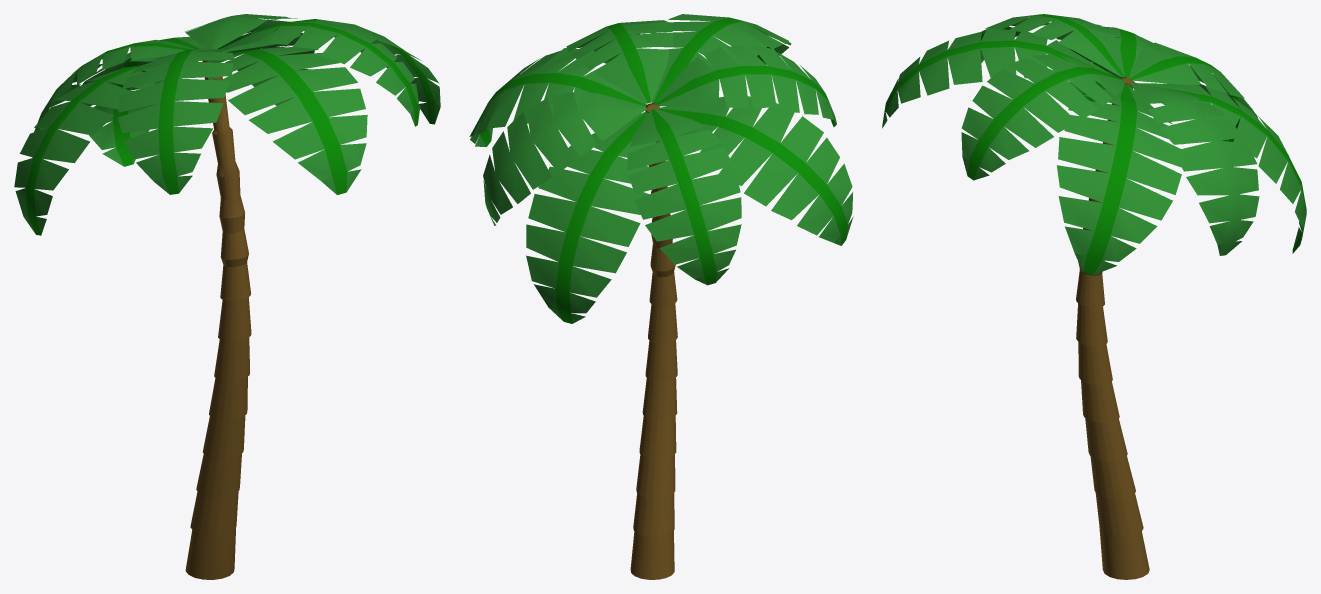
Rendered from palma.fbx.
3 renders of one model, left to right at view 1: azimuth 30°, elevation 25°; view 2: azimuth 150°, elevation 25°; view 3: azimuth 270°, elevation 25°, orthographic. The views are drawn at different scales.
Visible parts, largest first — view 1: Sfera, Cilindro; view 2: Sfera, Cilindro; view 3: Sfera, Cilindro.
Boxes of the visible parts, x1=… form: Sfera: x1=14, y1=14, x2=440, y2=235; Cilindro: x1=185, y1=60, x2=251, y2=579; Sfera: x1=469, y1=14, x2=853, y2=323; Cilindro: x1=630, y1=103, x2=677, y2=579; Sfera: x1=882, y1=14, x2=1306, y2=274; Cilindro: x1=1076, y1=77, x2=1149, y2=579.
Bounding box in the file's own units: 167 × 221 × 161.
